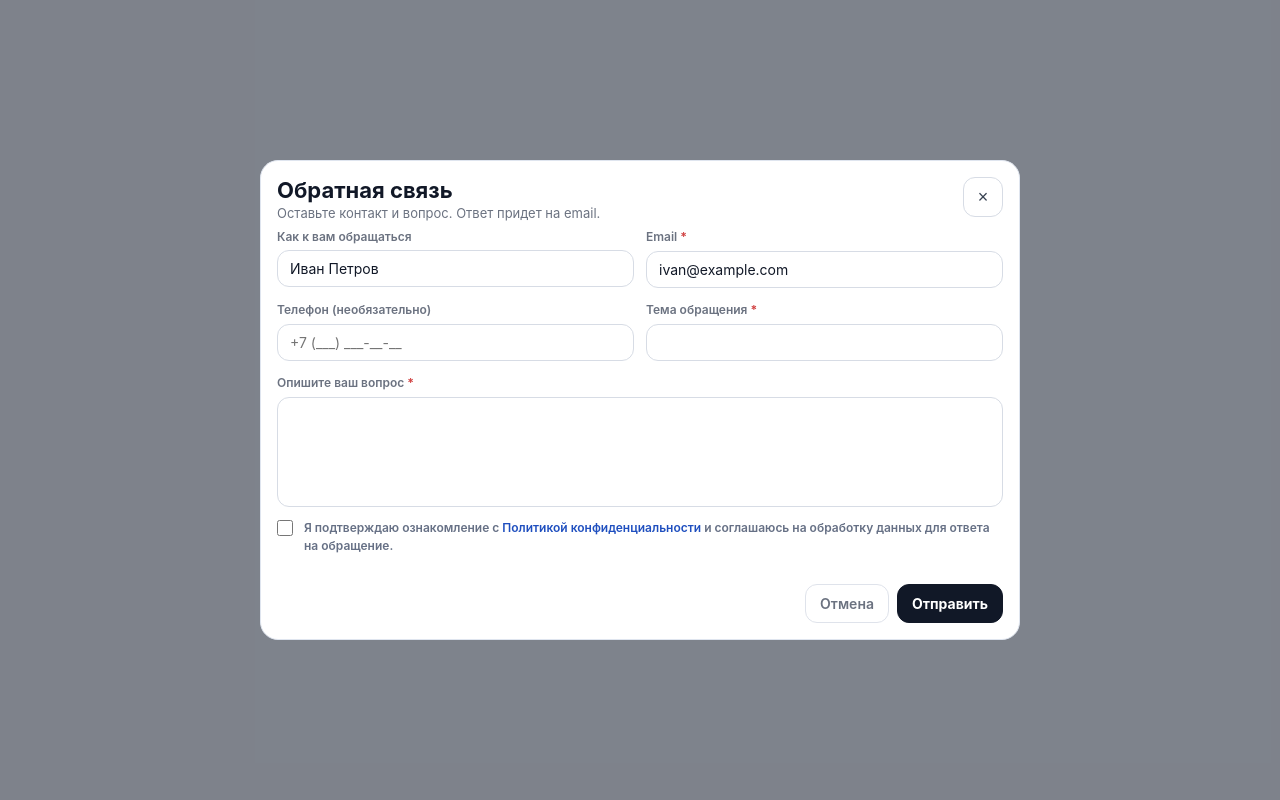
Test case: Feedback modal flow › validates email in real time
Replace the text in the field labelled "Email *" with "invalid-email" at (824, 270), box 646,251 -> 1003,288
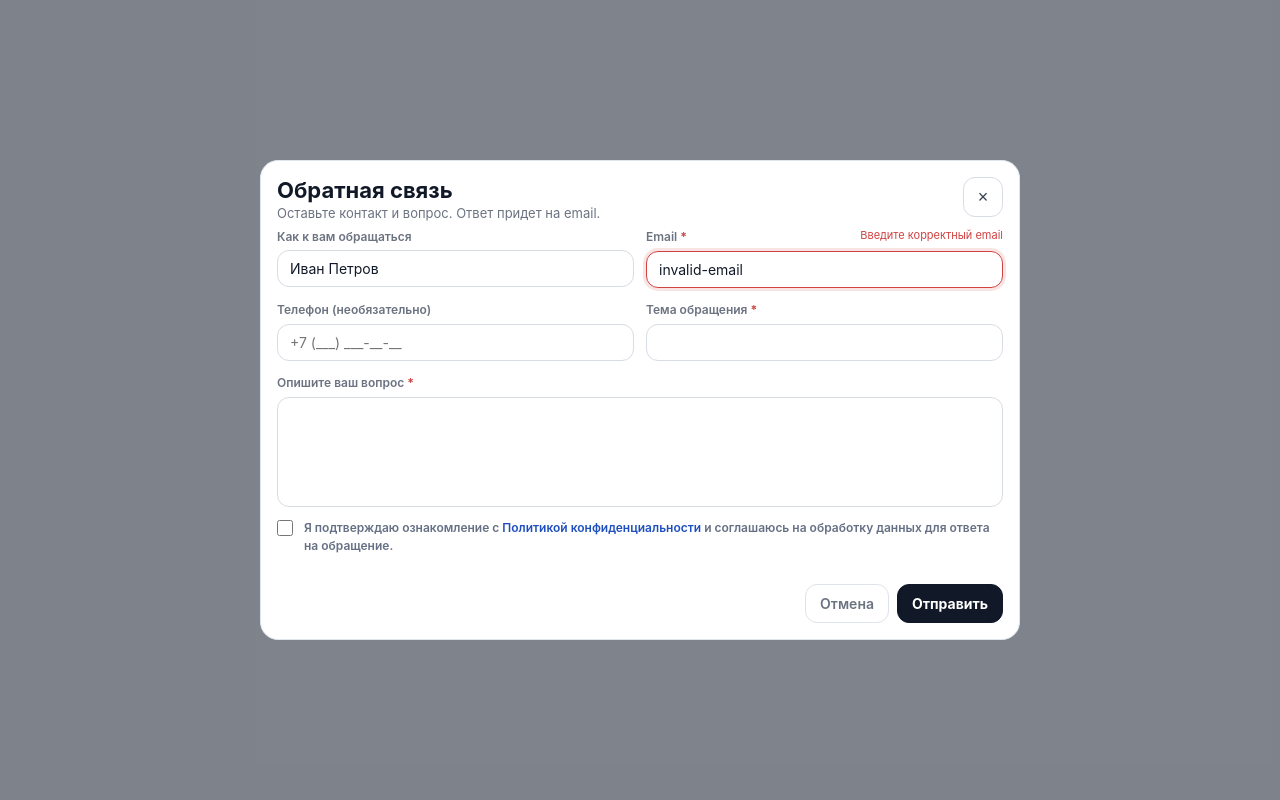
Now the text "Введите корректный email" is shown, box 860,228 -> 1003,242
